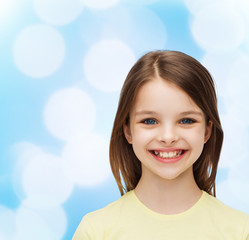teen: (112, 54, 222, 184)
